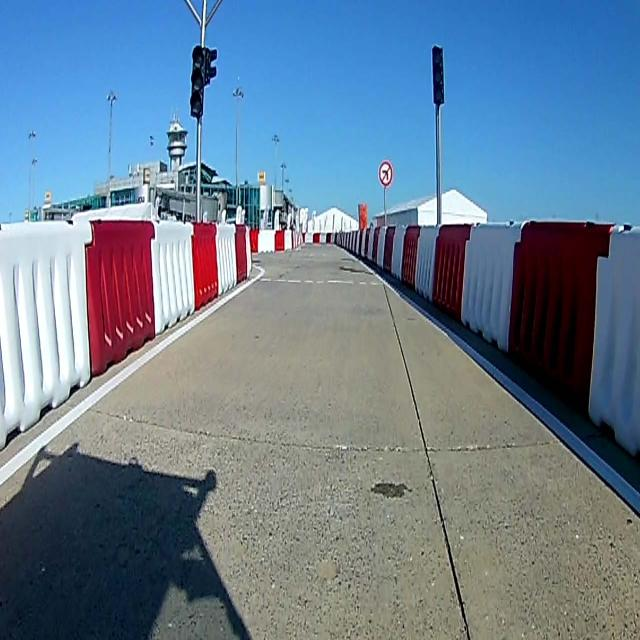soladonulmez: (379, 162, 393, 186)
